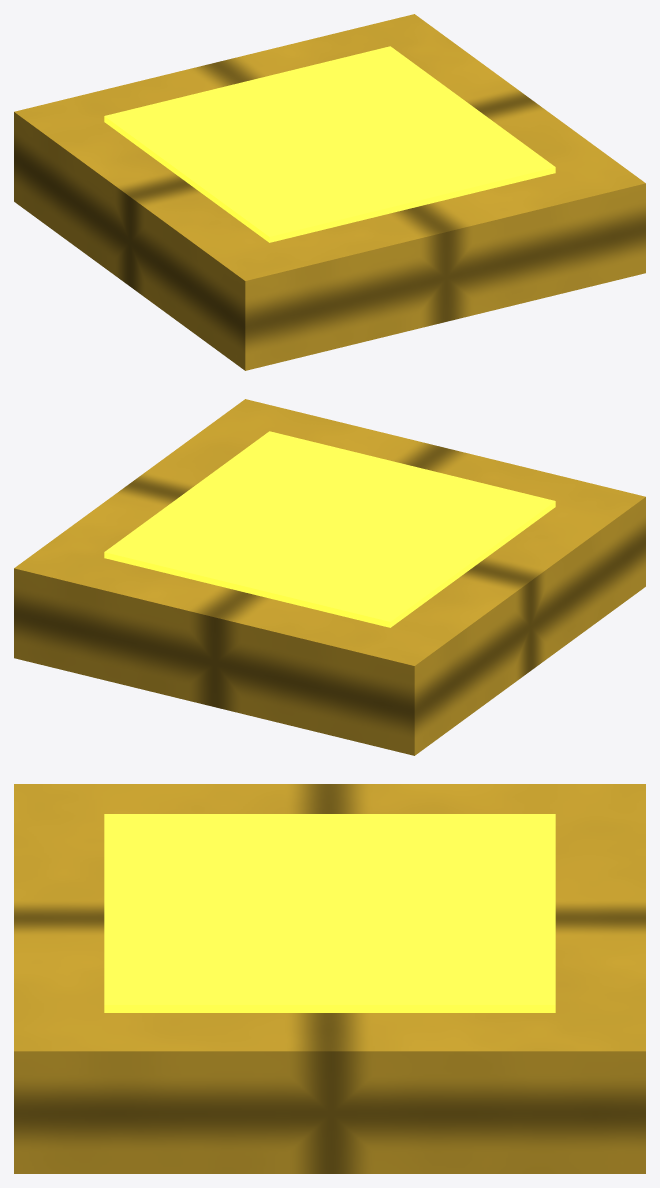
Rendered from tile_end.glb.
3 views of the same model, one above another, from view 1: azimuth 30°, elevation 25°; view 2: azimuth 150°, elevation 25°; view 3: azimuth 270°, elevation 25° (orthographic). The views are drawn at different scales.
Parts seen in each view (by area): view 1: tile_end; view 2: tile_end; view 3: tile_end.
Part boxes in pixels (left/top/right/bottom): tile_end: left=14, top=14, right=645, bottom=370; tile_end: left=14, top=399, right=645, bottom=755; tile_end: left=14, top=784, right=645, bottom=1173.
Bounding box in the file's own units: 1.4 × 0.32 × 1.4.
Materials: 2 (1 with a texture image).
